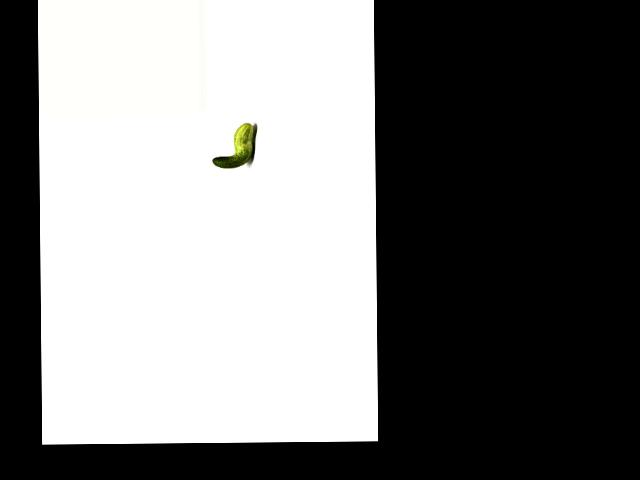cucumber: (212, 123, 254, 169)
